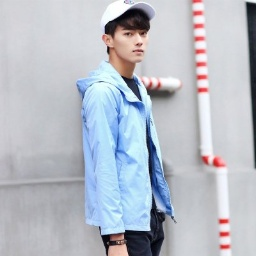face: (103, 8, 151, 64)
